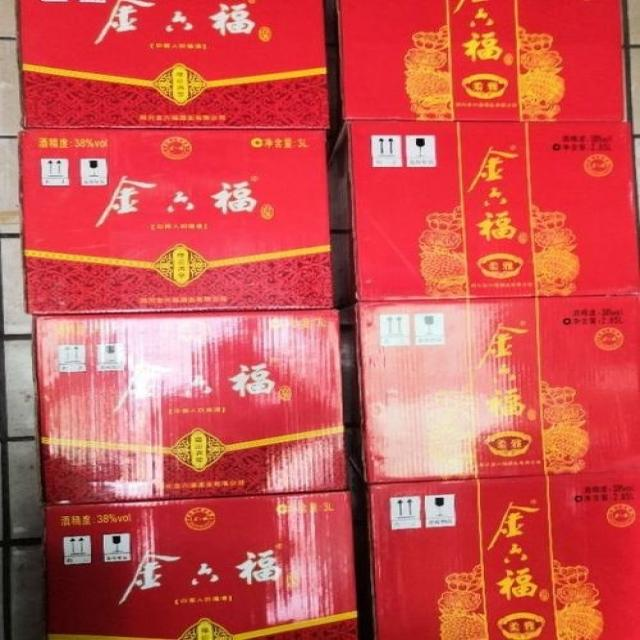Carton: (335, 0, 637, 300), (31, 311, 347, 505), (23, 134, 335, 309), (358, 297, 637, 481), (369, 470, 639, 639), (47, 493, 358, 639), (14, 0, 329, 129)
